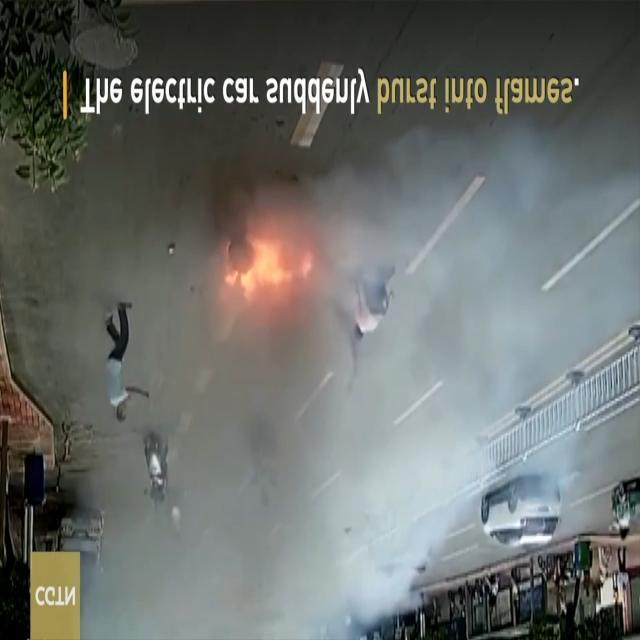fire: (218, 220, 316, 316)
